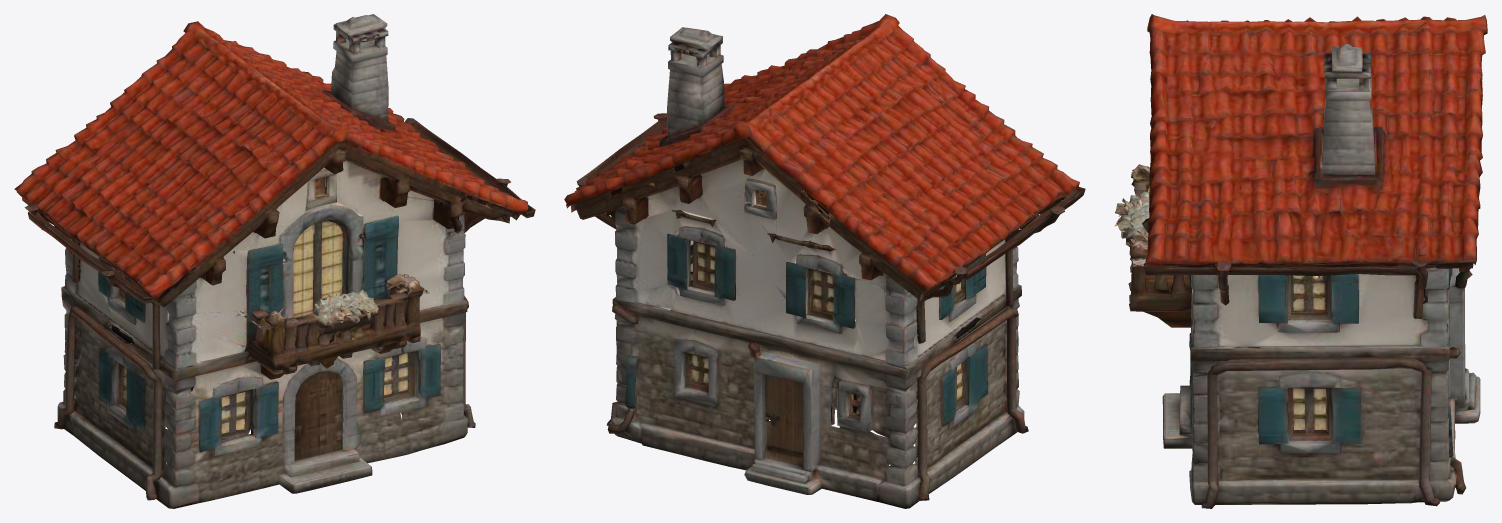
3 views of the same model, side by side, from view 1: azimuth 30°, elevation 25°; view 2: azimuth 150°, elevation 25°; view 3: azimuth 270°, elevation 25° (orthographic). The views are drawn at different scales.
Parts seen in each view (by area): view 1: alpine__tower_2__native_mobile; view 2: alpine__tower_2__native_mobile; view 3: alpine__tower_2__native_mobile.
Part boxes in pixels (bbox=[...]): alpine__tower_2__native_mobile: bbox=[14, 14, 535, 508]; alpine__tower_2__native_mobile: bbox=[564, 14, 1085, 508]; alpine__tower_2__native_mobile: bbox=[1114, 14, 1487, 508].
Size of the model in its own units: 1 by 0.9041 by 0.6976.
1 material, 1 textured.
